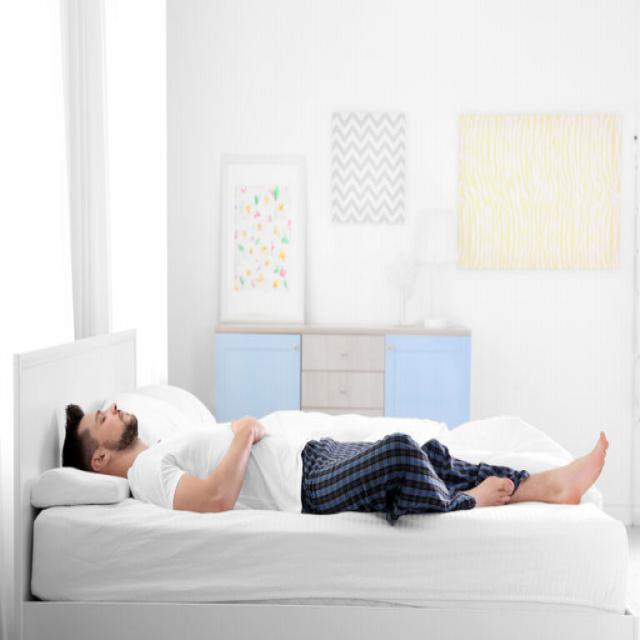people: (49, 360, 626, 542)
